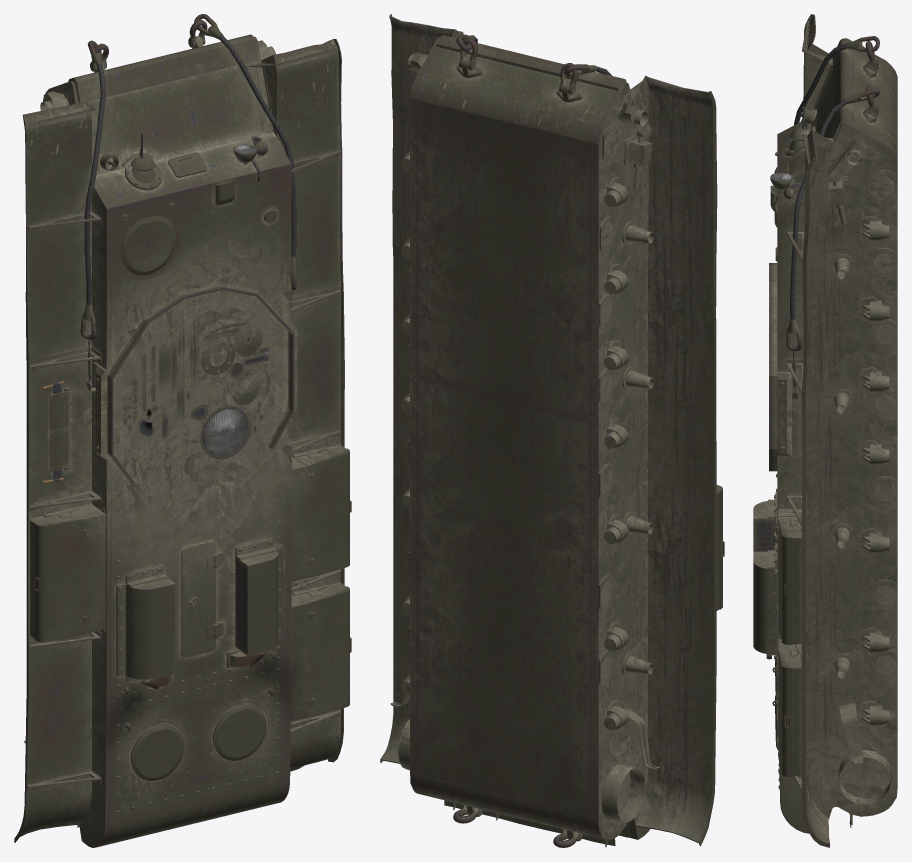
File: Hull.glb
The picture shows the model from 3 angles, left to right: view 1: azimuth 30°, elevation 25°; view 2: azimuth 150°, elevation 25°; view 3: azimuth 270°, elevation 25°; orthographic projection. The views are drawn at different scales.
Visible parts, largest first — view 1: set_0_group_0; view 2: set_0_group_0; view 3: set_0_group_0.
Boxes of the visible parts, <box> form: set_0_group_0: <box>14,14,351,847</box>; set_0_group_0: <box>380,14,724,847</box>; set_0_group_0: <box>753,14,897,847</box>.
Size of the model in its own units: 3.41 by 7.91 by 1.42.
1 material, 1 textured.
